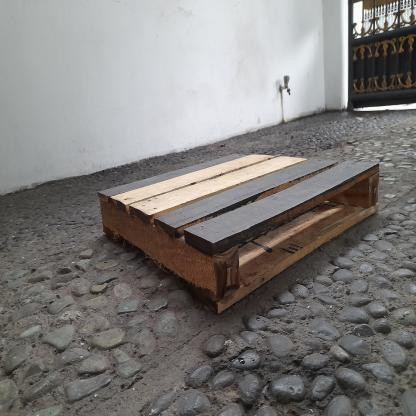Wooden-Pallet: (96, 145, 388, 324)
